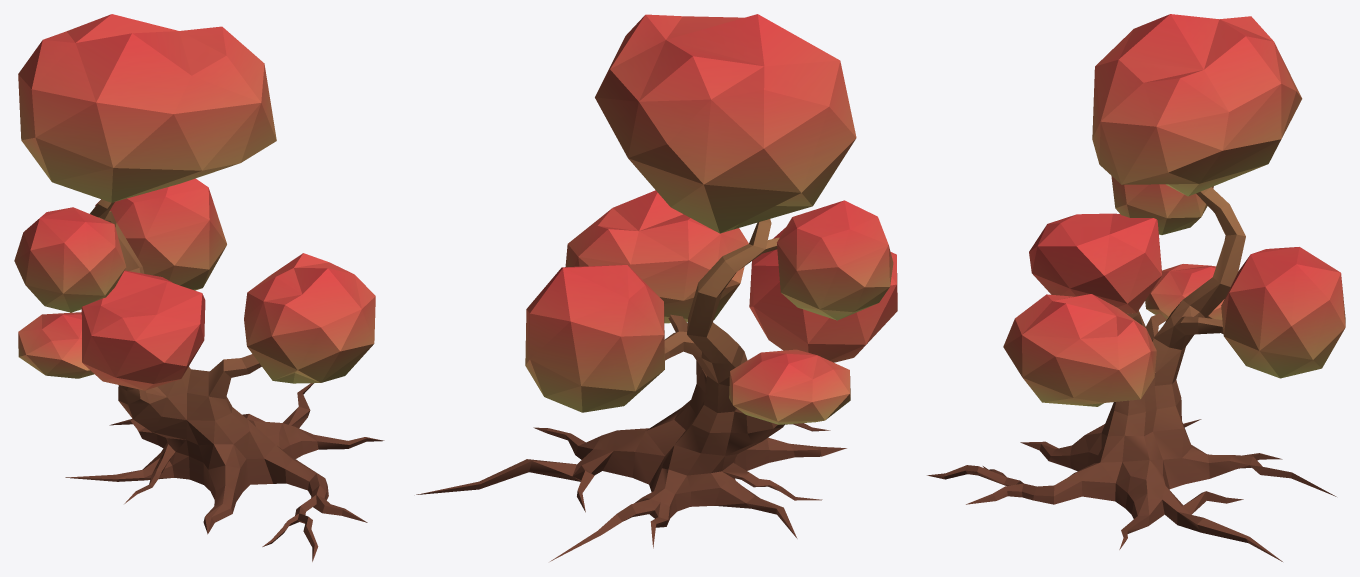
File: ZLP_Plant_D_12.FBX
3 renders of one model, left to right at view 1: azimuth 30°, elevation 25°; view 2: azimuth 150°, elevation 25°; view 3: azimuth 270°, elevation 25°, orthographic. The views are drawn at different scales.
Visible parts, largest first — view 1: ZLP_Plant_D_12; view 2: ZLP_Plant_D_12; view 3: ZLP_Plant_D_12.
Part boxes in pixels (x1=…): ZLP_Plant_D_12: x1=14, y1=14, x2=384, y2=561; ZLP_Plant_D_12: x1=416, y1=14, x2=897, y2=561; ZLP_Plant_D_12: x1=927, y1=14, x2=1345, y2=561.
Bounding box in the file's own units: 401 × 482 × 418.
